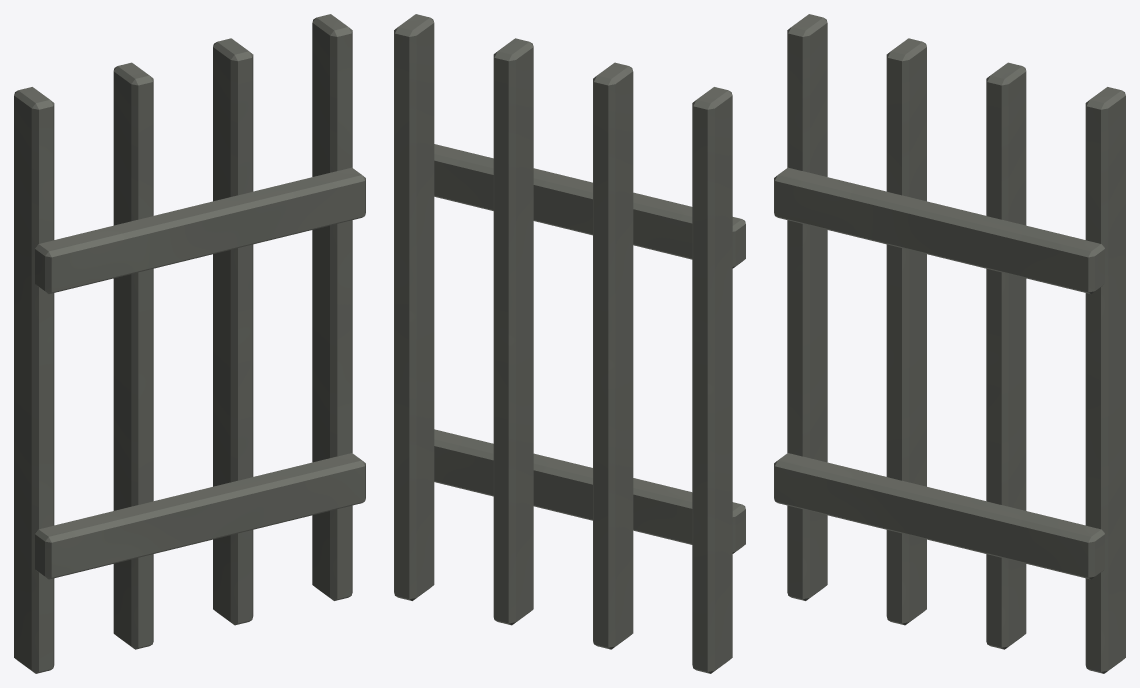
Rendered from WarrensC_WVC034_LadderFootBarsSkin_Mars_SM.fbx.
The picture shows the model from 3 angles, left to right: view 1: azimuth 30°, elevation 25°; view 2: azimuth 150°, elevation 25°; view 3: azimuth 330°, elevation 25°; orthographic projection.
Parts seen in each view (by area): view 1: WarrensC_WVC034_LadderFootBarsSkin_Mars_SM.001; view 2: WarrensC_WVC034_LadderFootBarsSkin_Mars_SM.001; view 3: WarrensC_WVC034_LadderFootBarsSkin_Mars_SM.001.
Part boxes in pixels (x1=…): WarrensC_WVC034_LadderFootBarsSkin_Mars_SM.001: x1=14, y1=14, x2=365, y2=673; WarrensC_WVC034_LadderFootBarsSkin_Mars_SM.001: x1=394, y1=14, x2=745, y2=673; WarrensC_WVC034_LadderFootBarsSkin_Mars_SM.001: x1=774, y1=14, x2=1125, y2=673.
Size of the model in its own units: 100 by 20 by 170.
